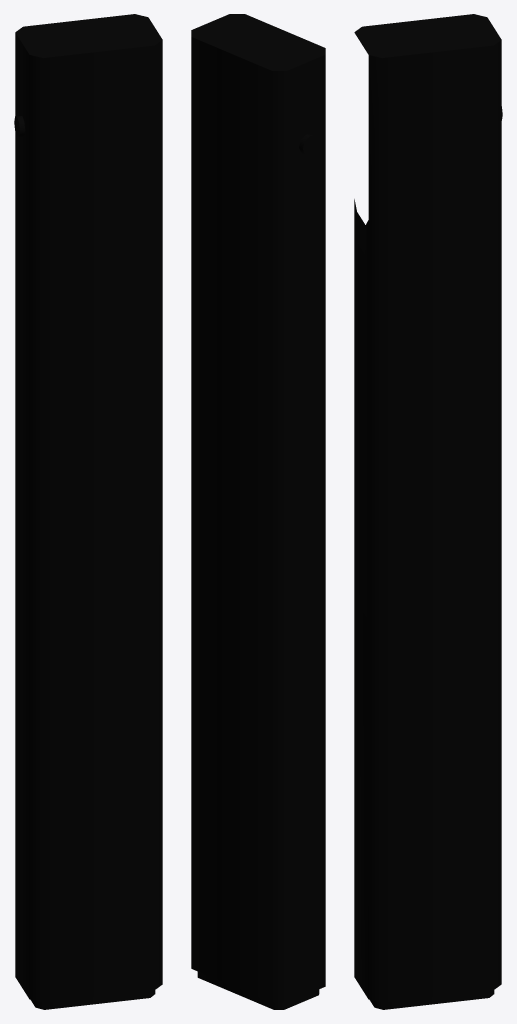
3 renders of one model, left to right at view 1: azimuth 90°, elevation 25°; view 2: azimuth 210°, elevation 25°; view 3: azimuth 270°, elevation 25°, orthographic.
Visible parts, largest first — view 1: Joint_0_Object_0, Joint_0_Object_1; view 2: Joint_0_Object_0, Joint_0_Object_1; view 3: Joint_0_Object_0, Joint_0_Object_1.
Boxes of the visible parts, <box> form: Joint_0_Object_0: <box>15,14,162,1002</box>; Joint_0_Object_1: <box>14,116,155,1009</box>; Joint_0_Object_0: <box>191,14,325,1002</box>; Joint_0_Object_1: <box>197,134,319,1009</box>; Joint_0_Object_0: <box>354,14,501,1002</box>; Joint_0_Object_1: <box>370,106,502,1009</box>.
Size of the model in its own units: 94.79 by 955 by 135.
2 materials, 2 textured.
